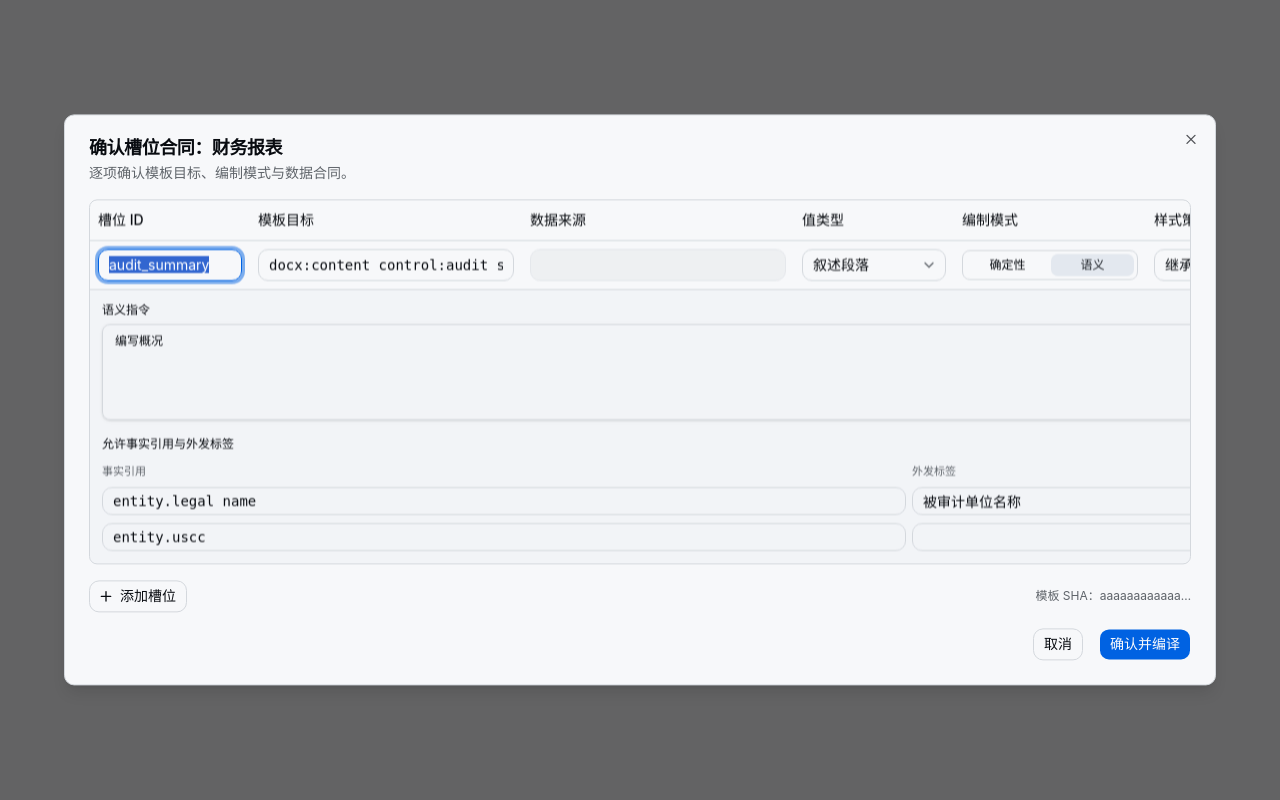
Scenario: Attachment template binding options › requires fact ref labels to match allowed fact refs exactly
Step 1. Click the button "确认并编译" → (1145, 645), box left=1099, top=629, right=1191, bottom=661
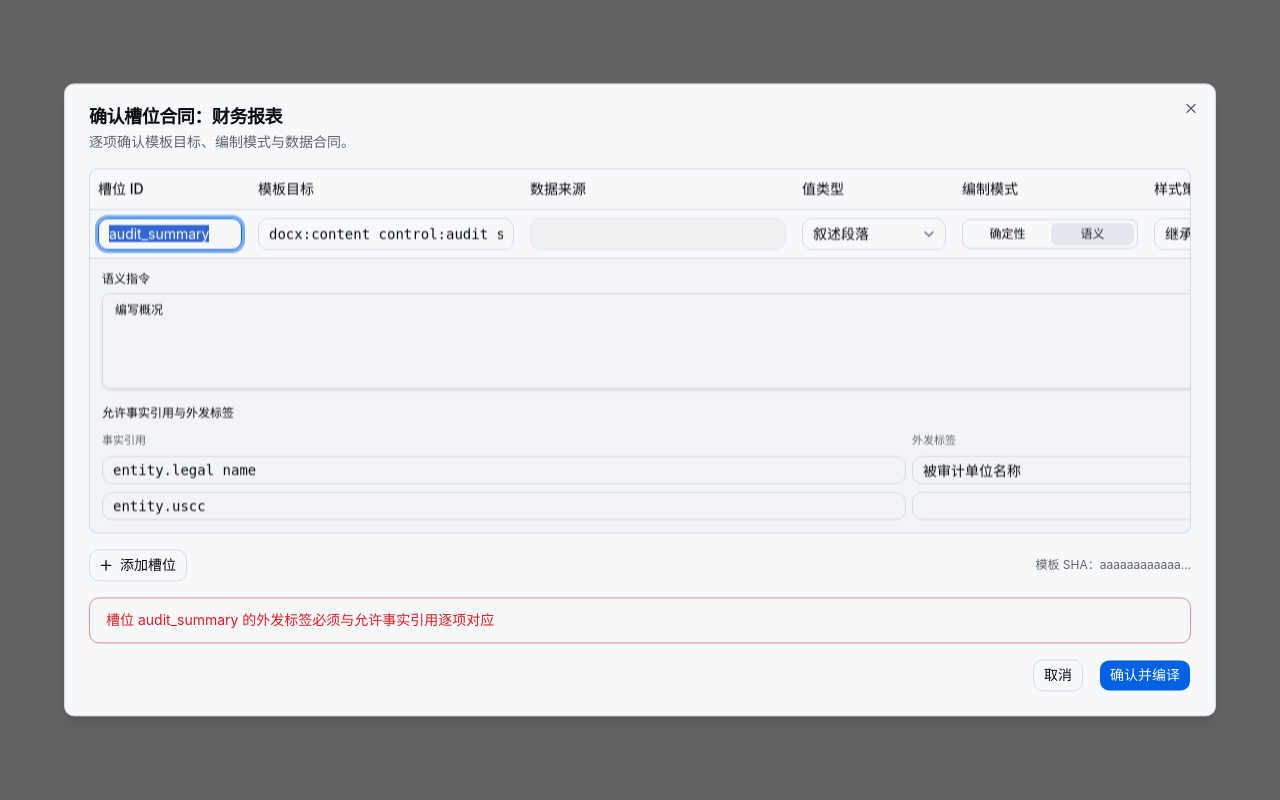
Result: the text "槽位 audit_summary 的外发标签必须与允许事实引用逐项对应" is shown at left=106, top=611, right=494, bottom=631
